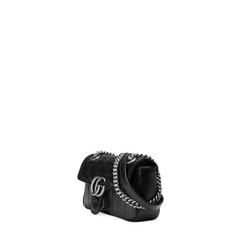Gucci: (76, 152, 163, 226), (88, 172, 107, 199)
